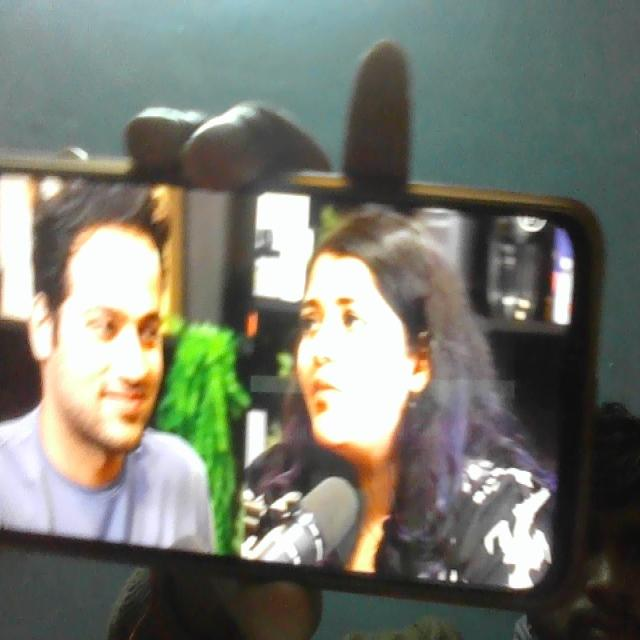fake: (276, 173, 435, 475), (39, 169, 192, 459)
